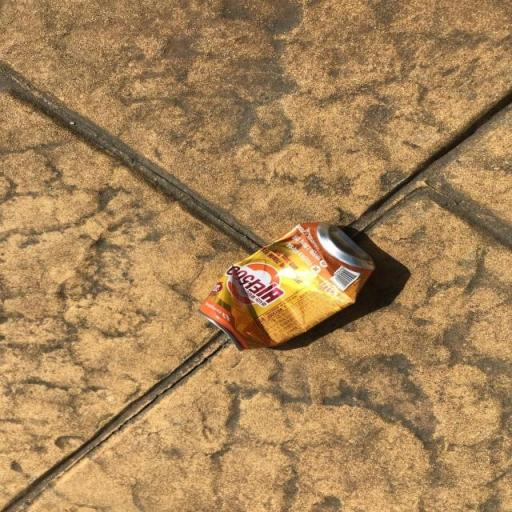metal: (192, 212, 386, 356)
